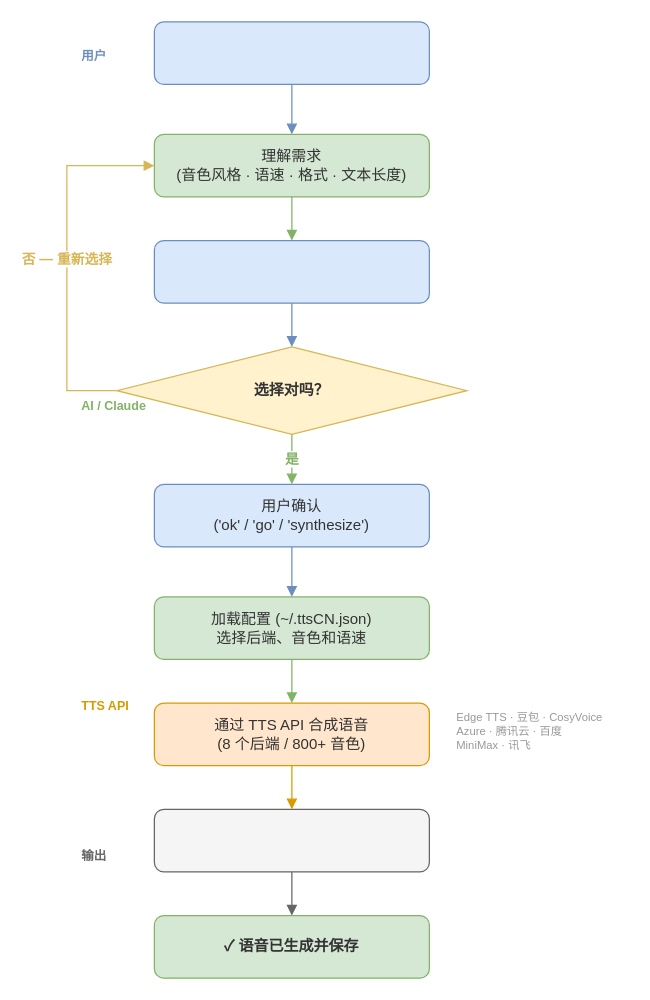
Some shapes in this 650 by 1000 pixel diagram are drawn without their labels. Each missing label, with the centre of its shape:
"后处理 (ffmpeg) 保存为 .wav 或 .mp3" goes at [291,840].
"推荐后端和音色 (用例匹配 → 最佳平台)" goes at [291,271].
"提供要朗读的文本 (直接输入或 .txt 文件)" goes at [291,52].
